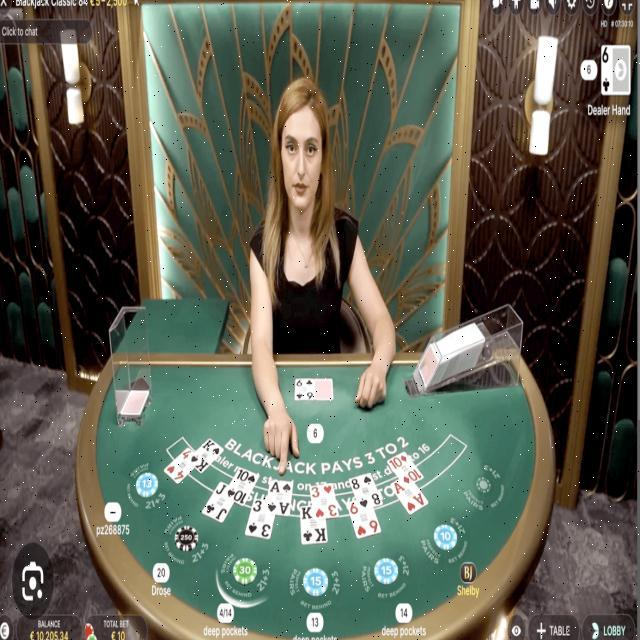Card-10: (223, 467, 260, 506), (387, 451, 423, 488)
Card-3: (245, 499, 275, 539), (310, 484, 339, 519)
Card-4: (164, 447, 195, 484)
Card-6: (346, 501, 381, 539), (295, 378, 314, 400)
Card-8: (348, 472, 383, 513)
Card-A: (390, 479, 428, 514), (264, 481, 293, 515)
Card-J: (201, 481, 233, 523)
Card-K: (189, 437, 224, 474), (300, 506, 327, 543)
